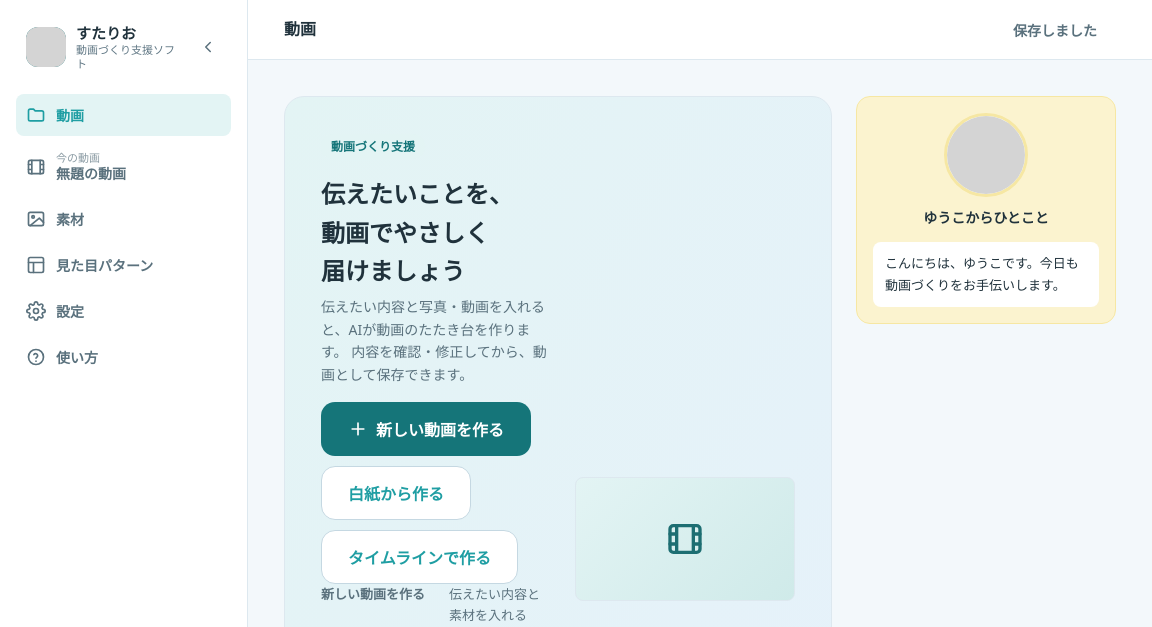
Scenario: App 書き出しの終了通知の配線（#589 統合） › 他画面（たたき台）にいるときに終わったら通知が出る
The width and height of the screenshot is (1152, 627).
What coordinates should you click on to do the following:
click the button "今の動画 無題の動画"
I would click on:
 (124, 167)
Its box is [16,140,231,194].
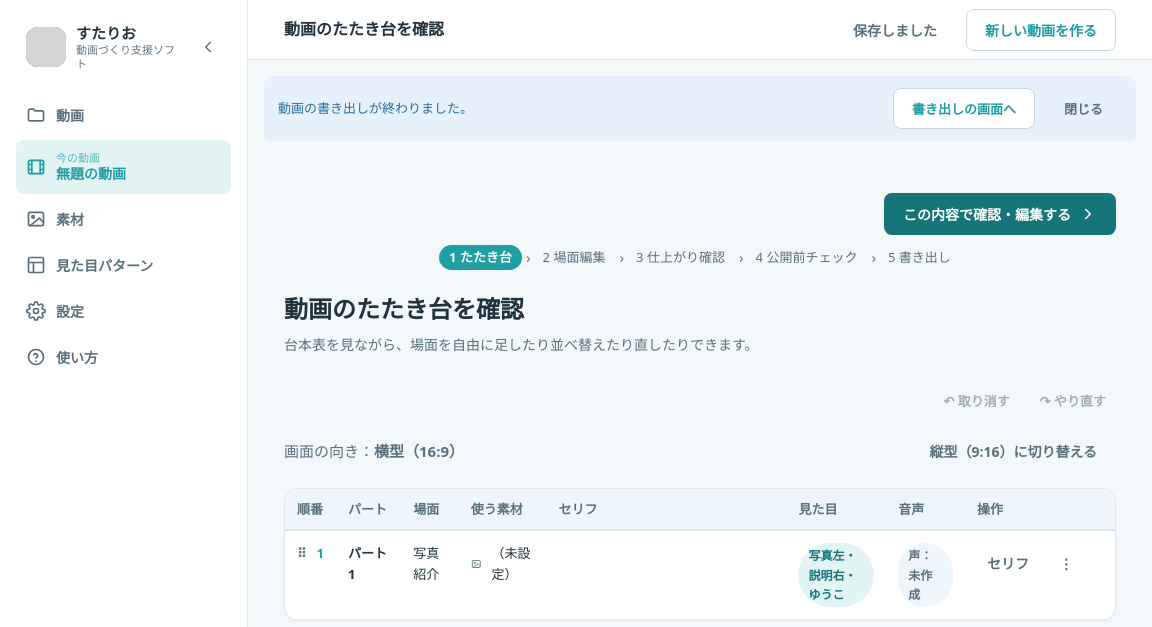
Expected: the text "動画の書き出しが終わりました。" is shown, [278,98,473,119]
